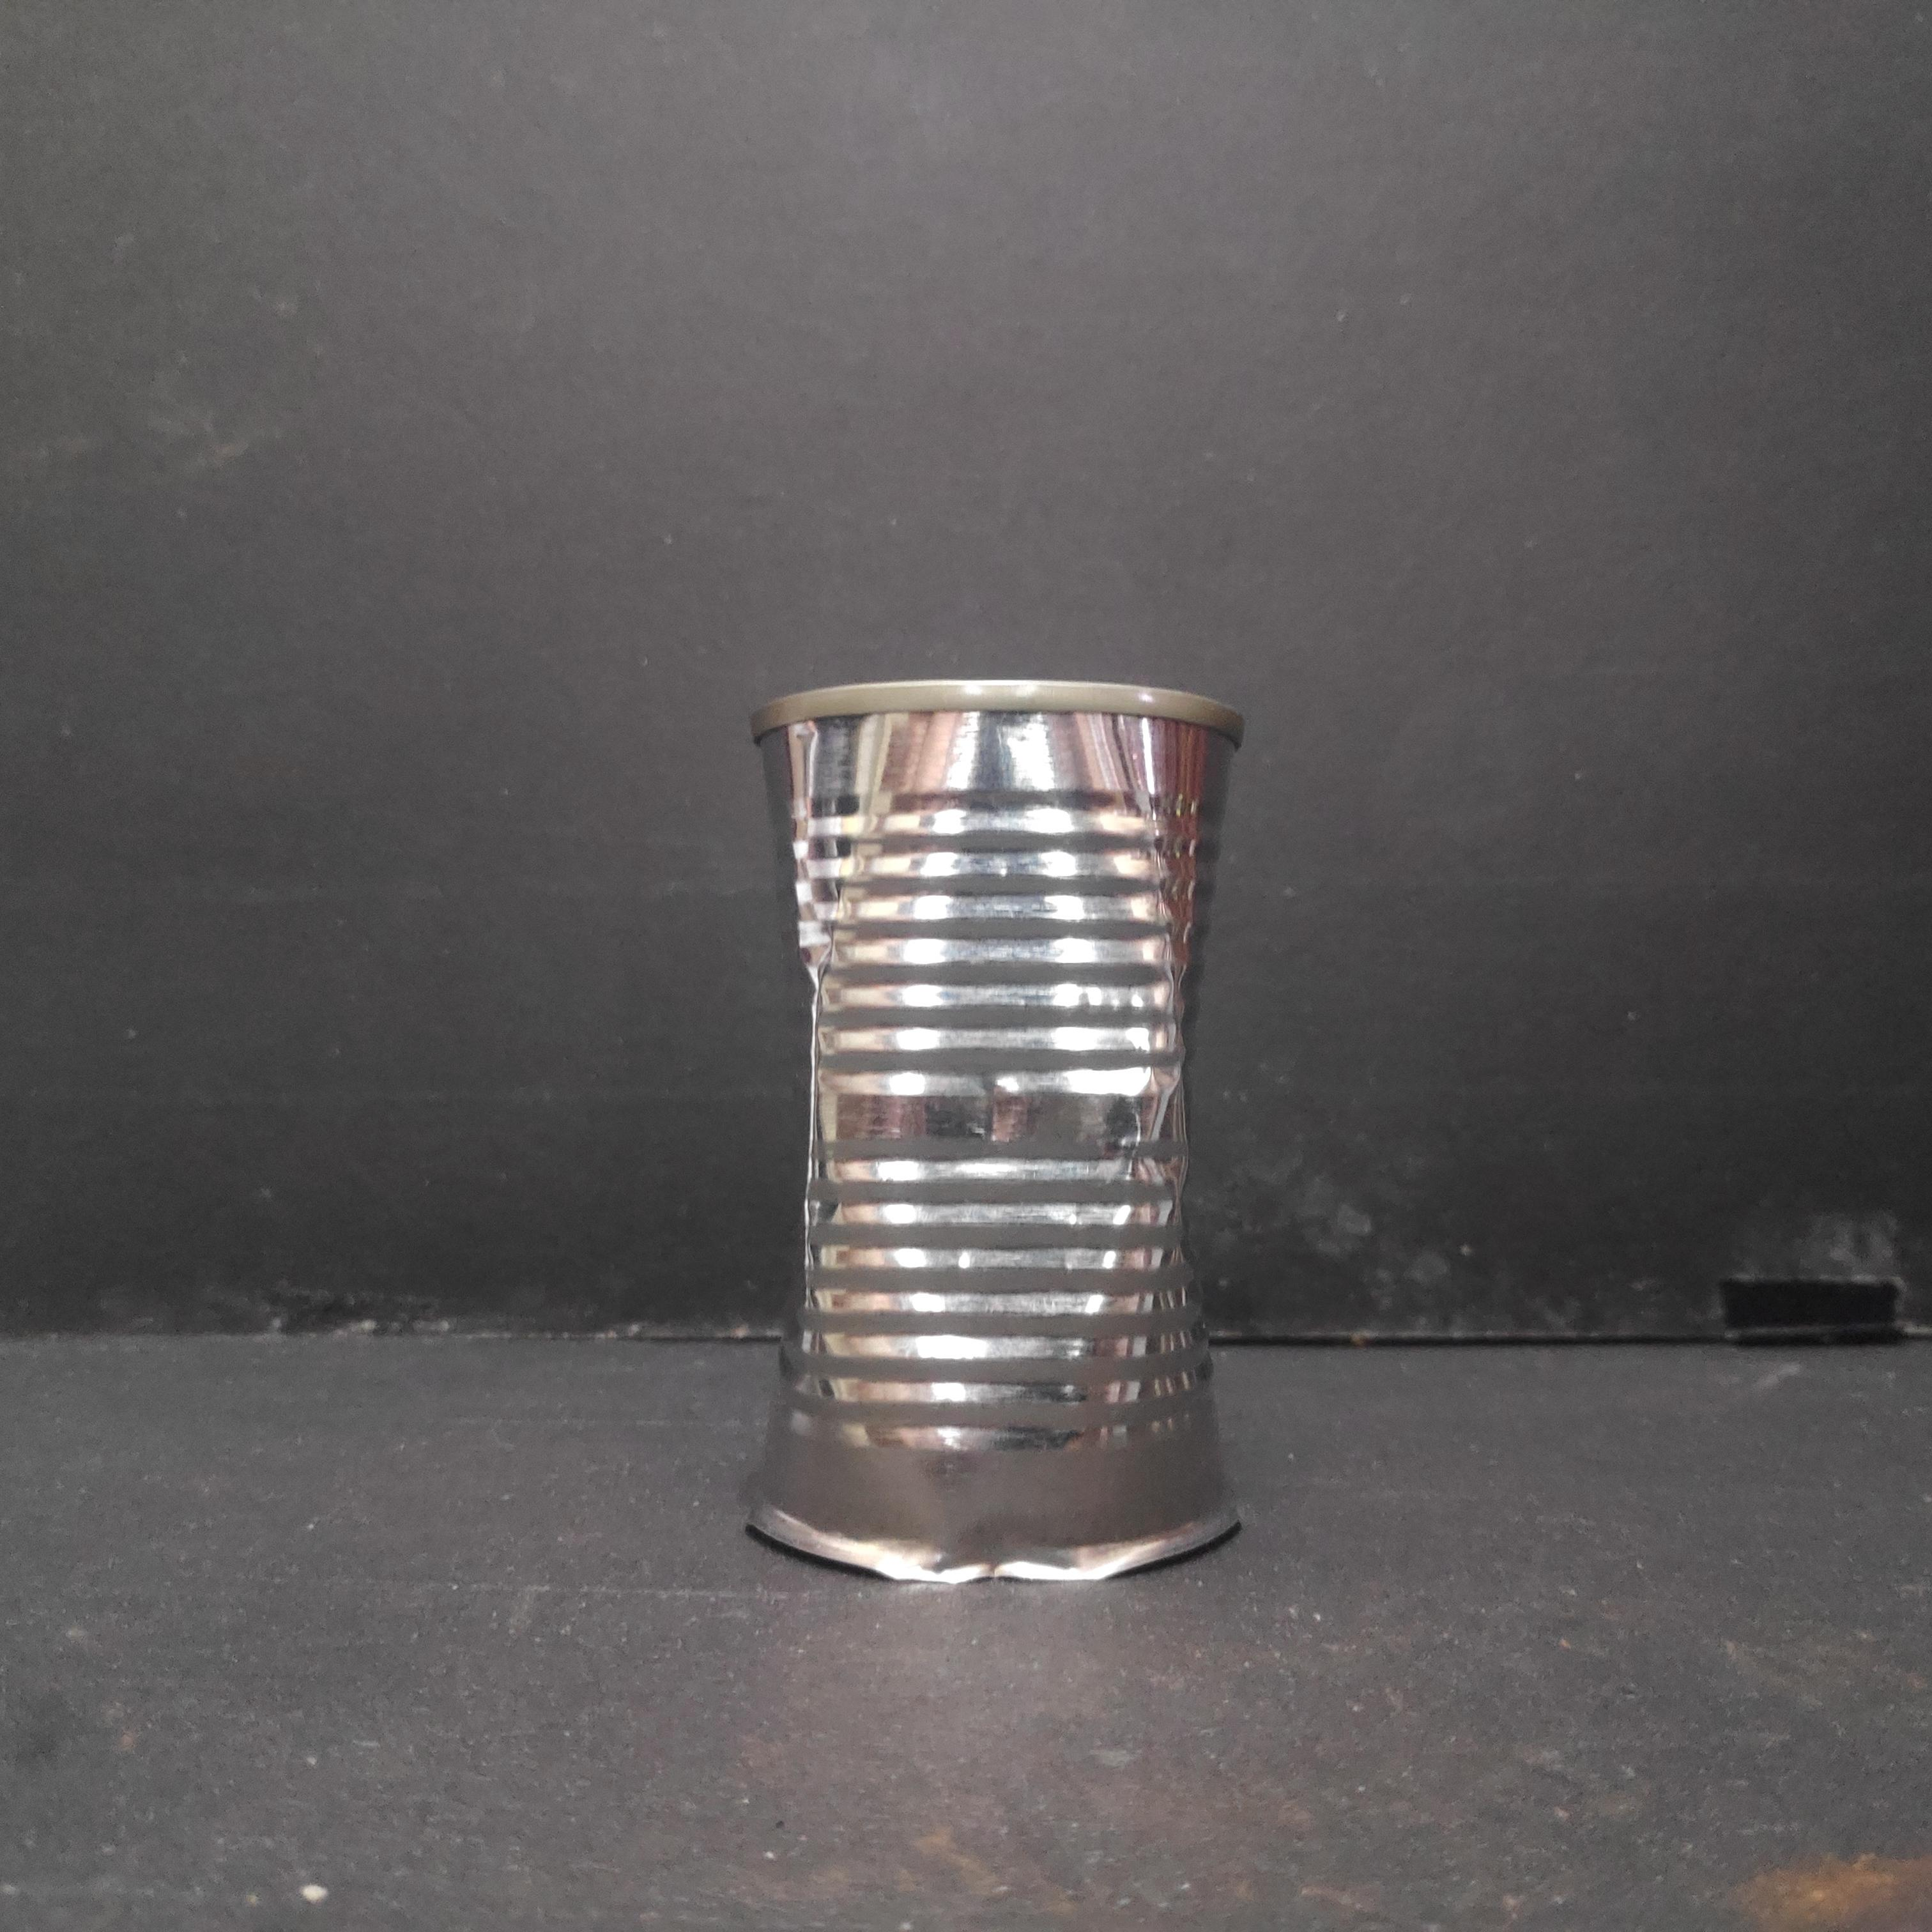Minor Defect: (743, 672, 1253, 1610)
